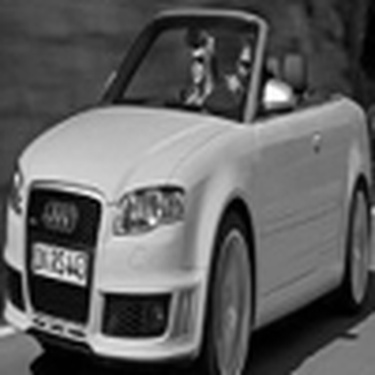car: (2, 5, 369, 371)
